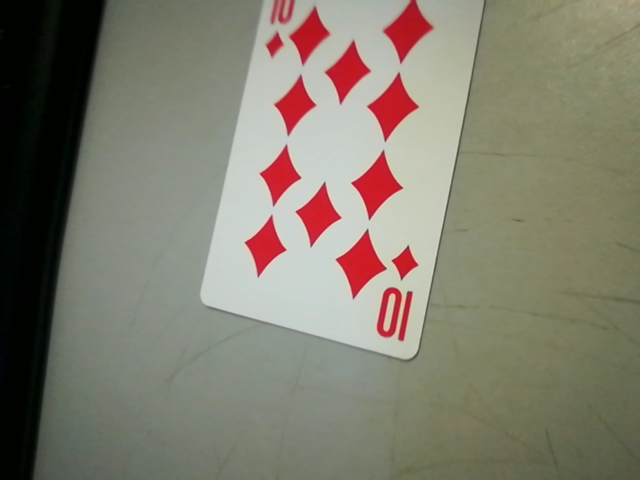fk 10: (373, 240, 428, 353)
